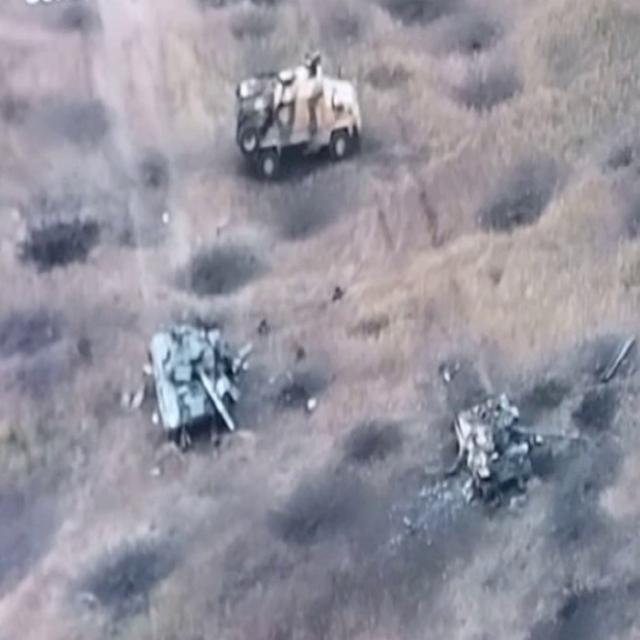MBT: (452, 392, 580, 520), (148, 311, 243, 453)
Vehicle: (235, 48, 366, 188)
